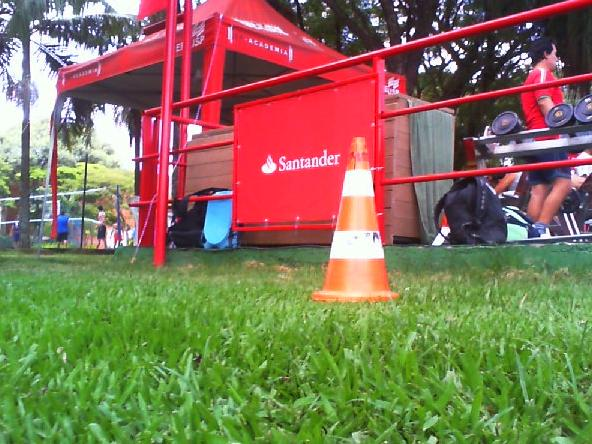0 cone: (311, 137, 399, 303)
